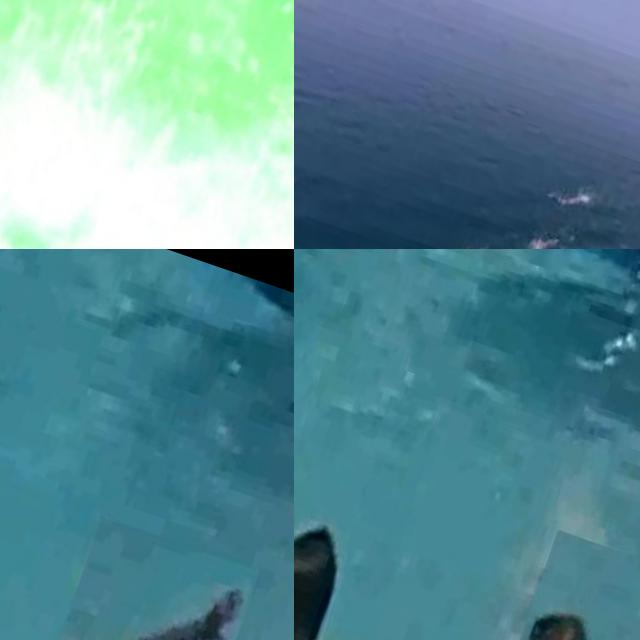drowning: (13, 516, 259, 640), (479, 529, 640, 640)
swimming: (294, 479, 402, 640), (542, 172, 596, 222), (523, 223, 566, 249), (431, 230, 488, 249)
